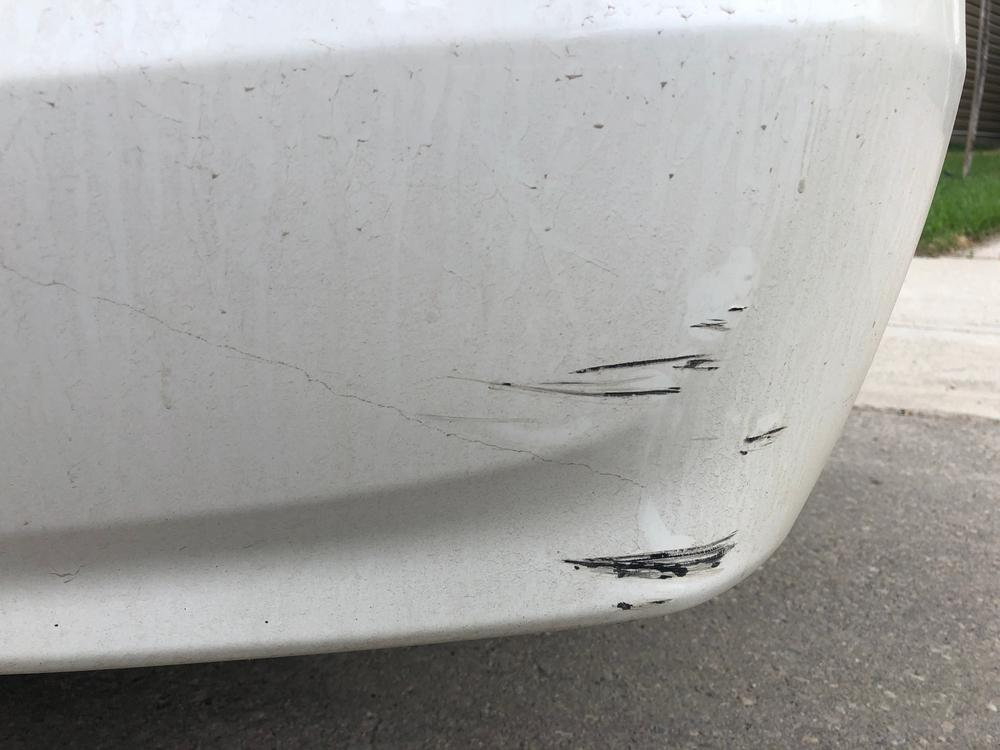scratch: (472, 300, 796, 617)
